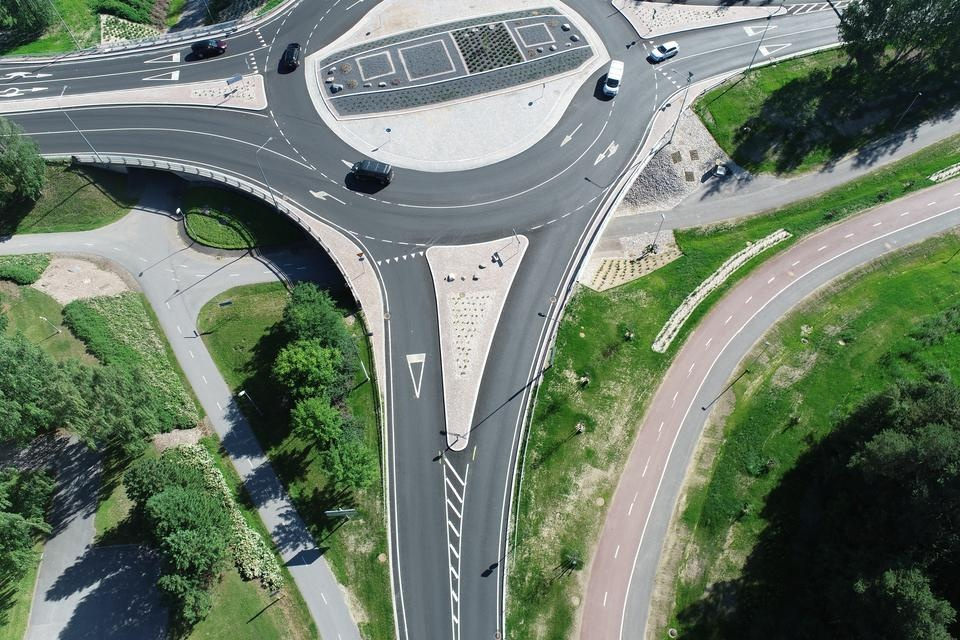roundabout: (184, 0, 726, 358)
